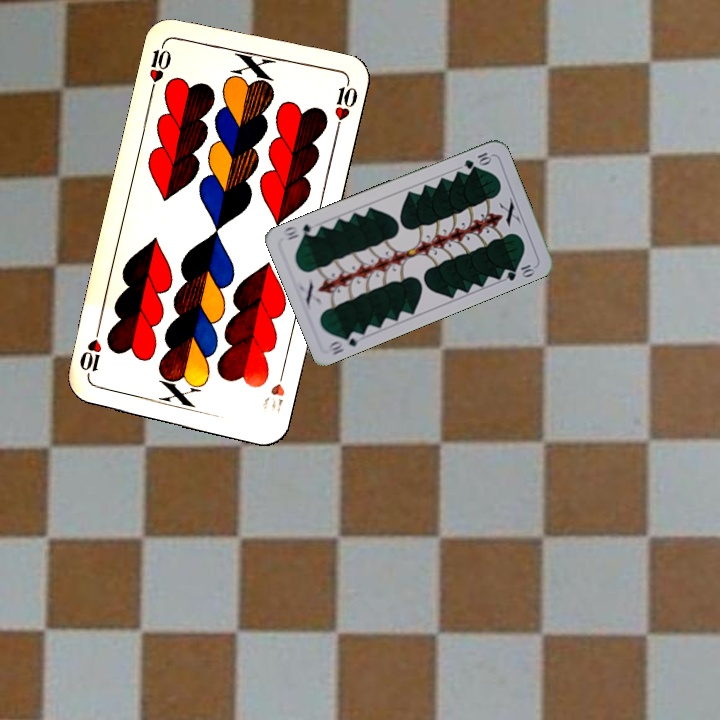G10: (325, 328, 365, 357), (460, 148, 494, 171)
H10: (145, 37, 174, 95), (258, 363, 288, 415)
